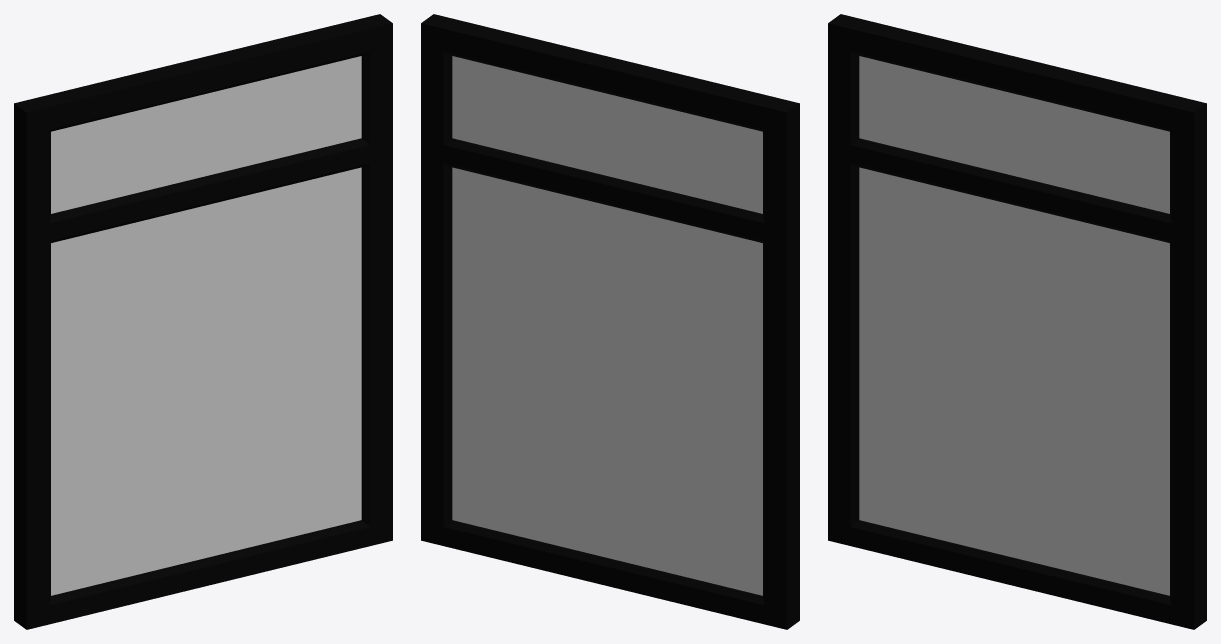
The model's file is WindowWall.glb.
3 views of the same model, side by side, from view 1: azimuth 30°, elevation 25°; view 2: azimuth 150°, elevation 25°; view 3: azimuth 330°, elevation 25° (orthographic).
Parts seen in each view (by area): view 1: Window1.002; view 2: Window1.002; view 3: Window1.002.
Part boxes in pixels (x1=…): Window1.002: x1=14, y1=14, x2=392, y2=629; Window1.002: x1=421, y1=14, x2=799, y2=629; Window1.002: x1=828, y1=14, x2=1206, y2=629.
Size of the model in its own units: 2 by 2.7 by 0.12.
Materials: 2 (1 with a texture image).
